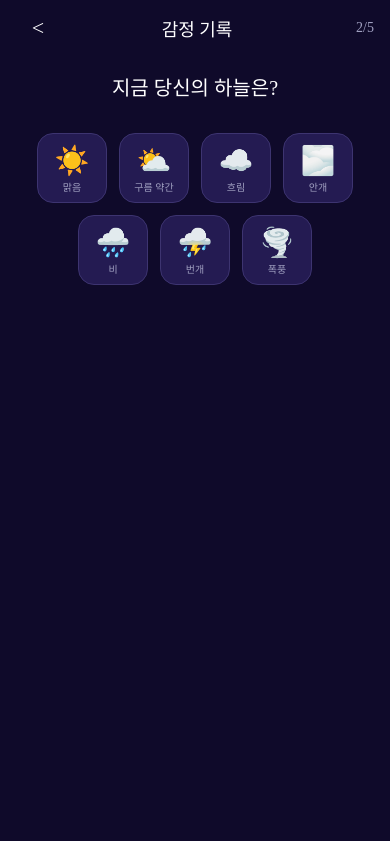
Test case: EmotionRecordScreen › shows tag section with preset tags when toggled
Click the text "맑음" at (72, 186), box [63, 178, 81, 194]
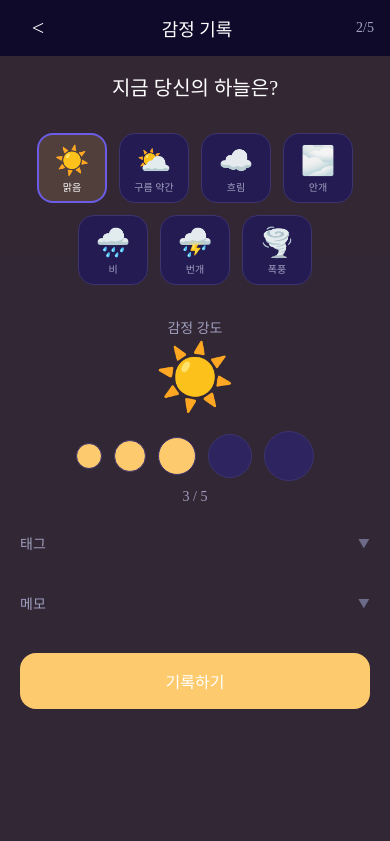
Expected: the text "#회의후" is not shown
// Toggle tags open
Click the text "태그" at (33, 543), box [20, 533, 46, 553]
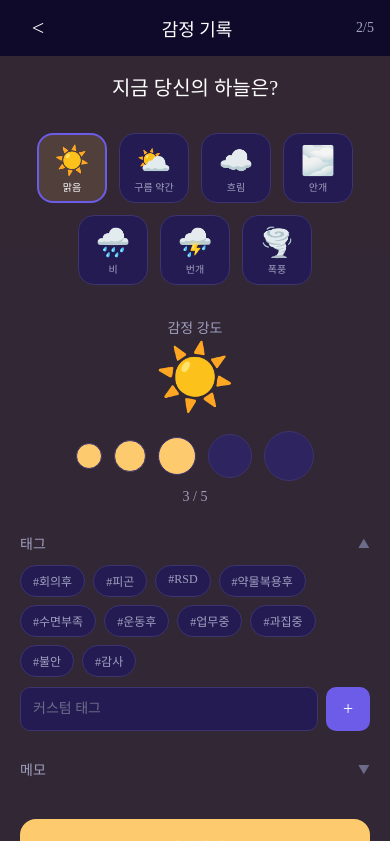
Result: the text "#회의후" is shown at [33, 572, 72, 590]
Result: the text "#피곤" is shown at [106, 572, 134, 590]
Result: the text "#RSD" is shown at [168, 572, 198, 587]
